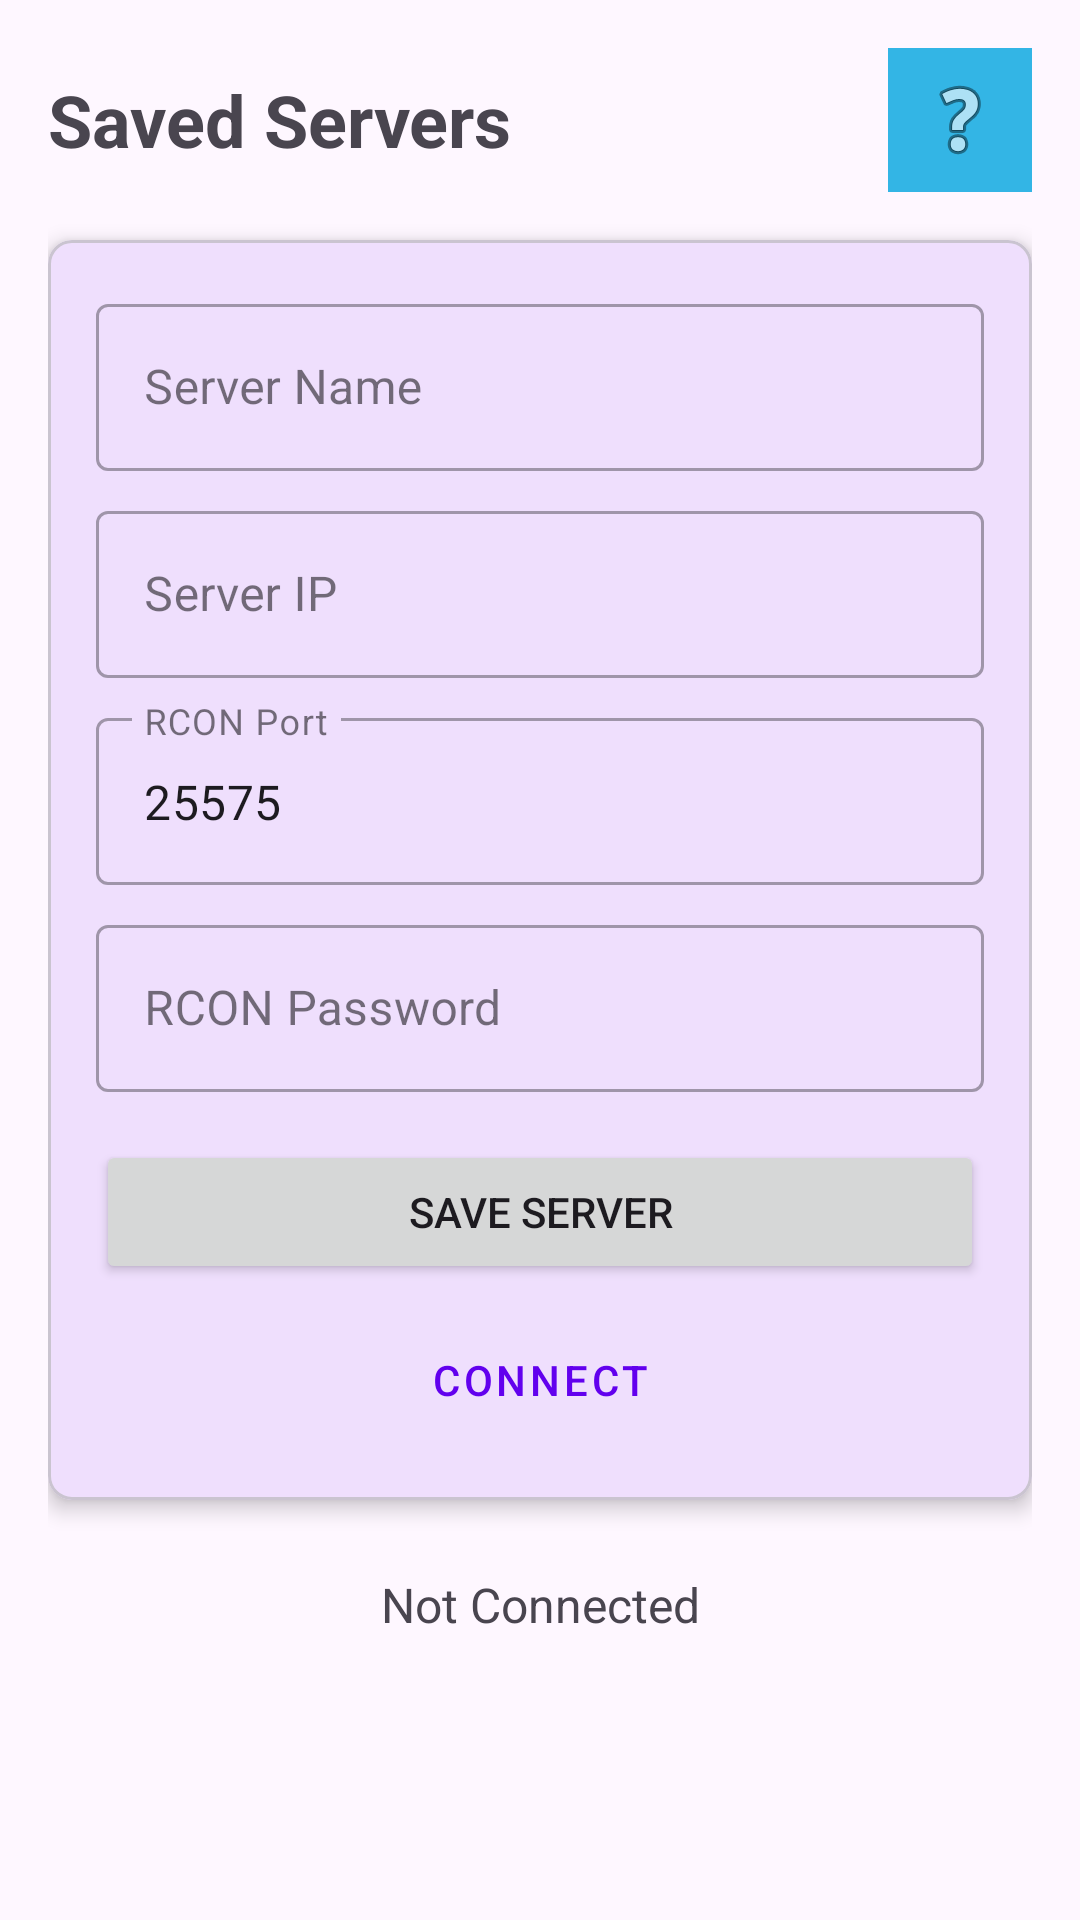

Icon click points for this 1080px×1920px phone screenshot, format (x=x, y=y):
Help - RCON Setup: (x=960, y=120)
